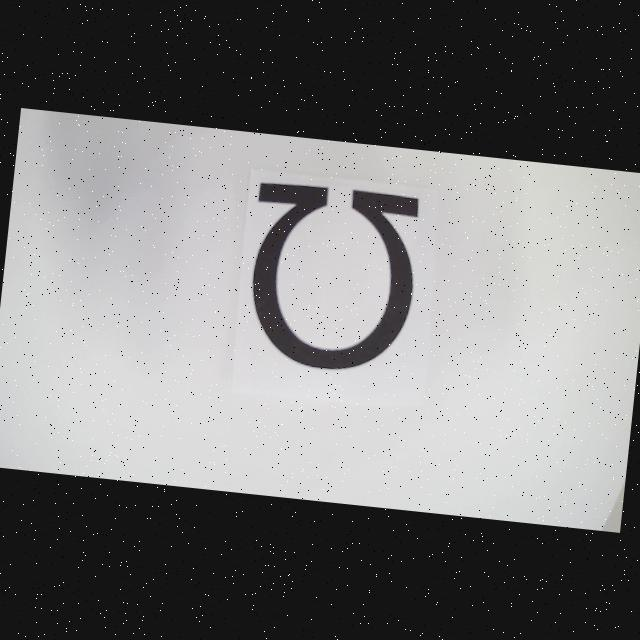OMEGA: (241, 180, 422, 378)
